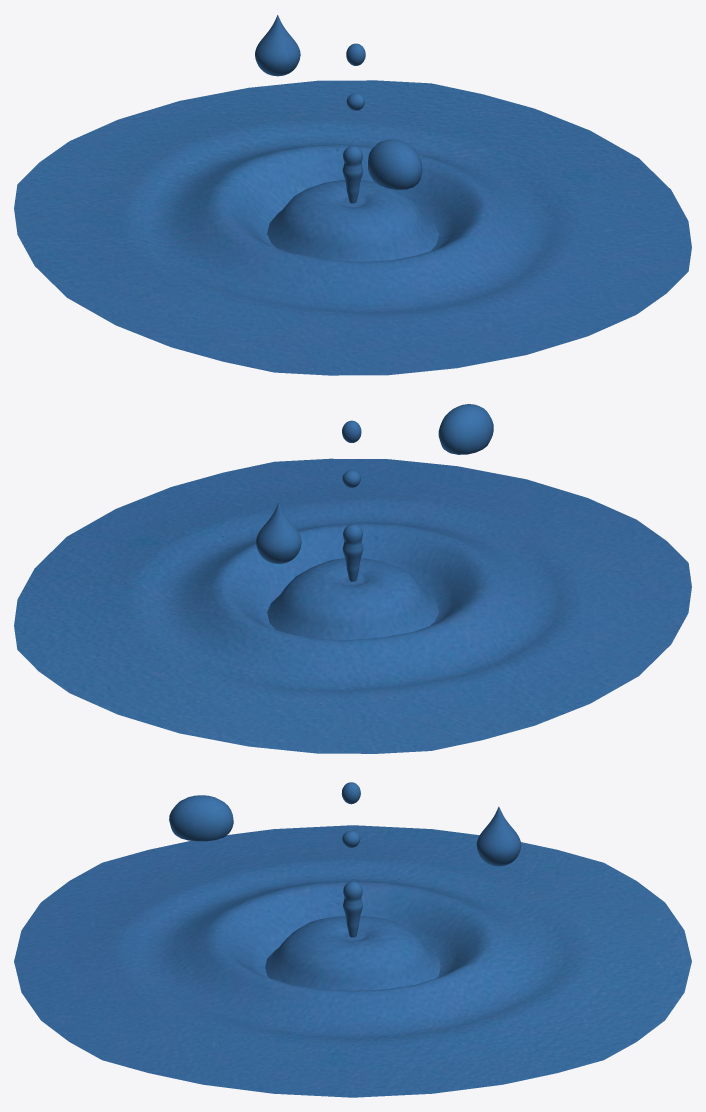
The model's file is waterSplash.obj.
3 views of the same model, one above another, from view 1: azimuth 30°, elevation 25°; view 2: azimuth 150°, elevation 25°; view 3: azimuth 270°, elevation 25° (orthographic). The views are drawn at different scales.
Visible parts, largest first — view 1: Water_surface, Drop_for_surface, Standard_Drop, Standard_Splash; view 2: Water_surface, Drop_for_surface, Standard_Drop, Standard_Splash; view 3: Water_surface, Drop_for_surface, Standard_Drop, Standard_Splash.
Boxes of the visible parts, x1,y1,x2,y2 form: Water_surface: (14,80,691,375); Drop_for_surface: (368,139,422,189); Standard_Drop: (255,15,300,76); Standard_Splash: (342,146,363,203); Water_surface: (14,458,691,753); Drop_for_surface: (438,404,493,454); Standard_Drop: (256,502,301,563); Standard_Splash: (342,524,363,581); Water_surface: (14,825,691,1097); Drop_for_surface: (169,795,233,841); Standard_Drop: (476,806,521,866); Standard_Splash: (343,881,362,937).
Bounding box in the file's own units: 2.15 × 0.6814 × 2.26.
Materials: 5 (5 with a texture image).
